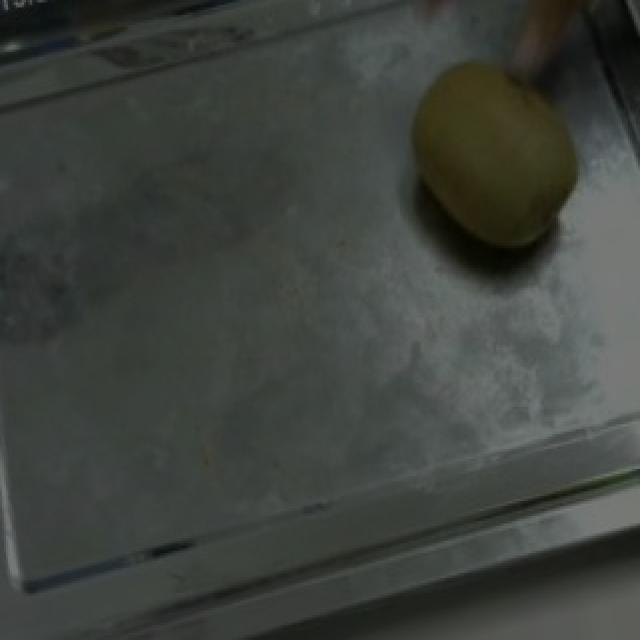Fruit: (378, 32, 608, 288)
